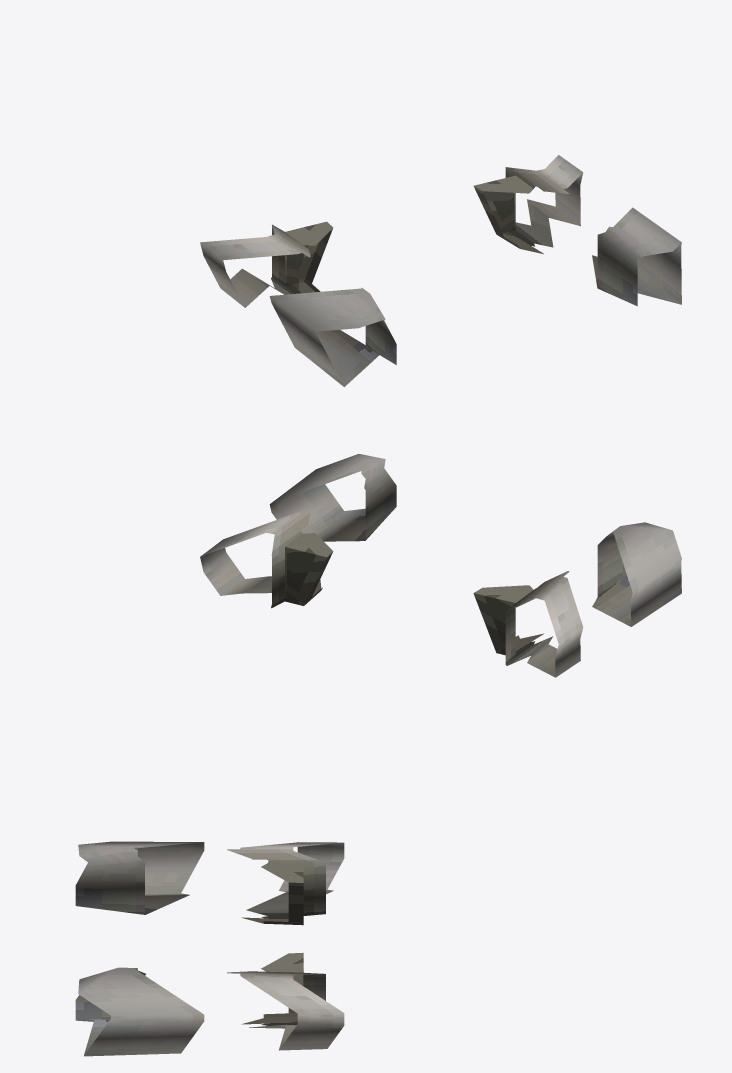
File: hutt_fighter_medium_booster_s01_l3.fbx
The picture shows the model from 3 angles, top to bottom: view 1: azimuth 30°, elevation 25°; view 2: azimuth 150°, elevation 25°; view 3: azimuth 270°, elevation 25°; orthographic projection. The views are drawn at different scales.
Visible parts, largest first — view 1: mesh_node; view 2: mesh_node; view 3: mesh_node.
Boxes of the visible parts, x1,y1,x2,y2 form: mesh_node: [200, 155, 681, 386]; mesh_node: [200, 454, 681, 677]; mesh_node: [75, 841, 344, 1056].
Size of the model in its own units: 3.55 by 0.6615 by 6.03.
